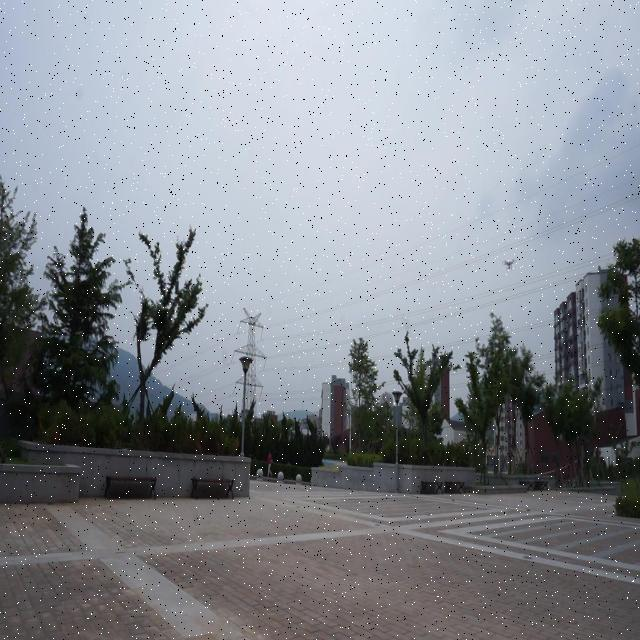UAV: (502, 259, 518, 270)
